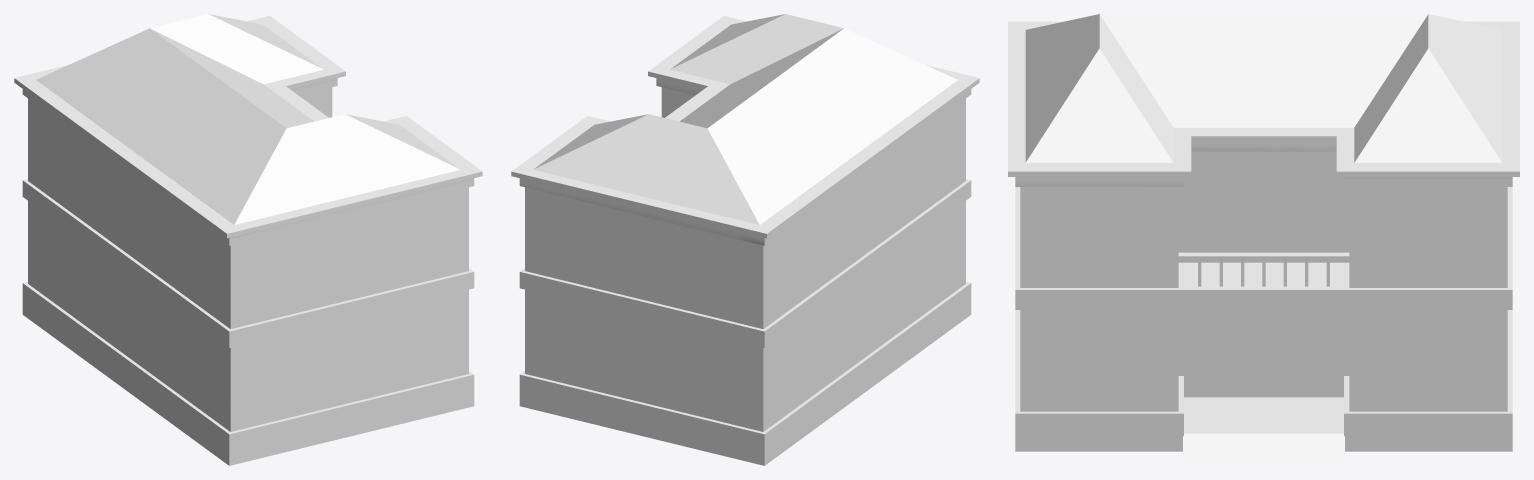
Rendered from Plain_Building_Residential_L3_01_Mod.fbx.
3 views of the same model, side by side, from view 1: azimuth 30°, elevation 25°; view 2: azimuth 150°, elevation 25°; view 3: azimuth 270°, elevation 25° (orthographic). The views are drawn at different scales.
Visible parts, largest first — view 1: Plain_Building_Residential_L3_01_Mod; view 2: Plain_Building_Residential_L3_01_Mod; view 3: Plain_Building_Residential_L3_01_Mod.
Boxes of the visible parts, bbox=[...] form: Plain_Building_Residential_L3_01_Mod: bbox=[14, 14, 482, 465]; Plain_Building_Residential_L3_01_Mod: bbox=[511, 14, 979, 465]; Plain_Building_Residential_L3_01_Mod: bbox=[1008, 14, 1519, 465].
Bounding box in the file's own units: 892 × 897 × 1196.
